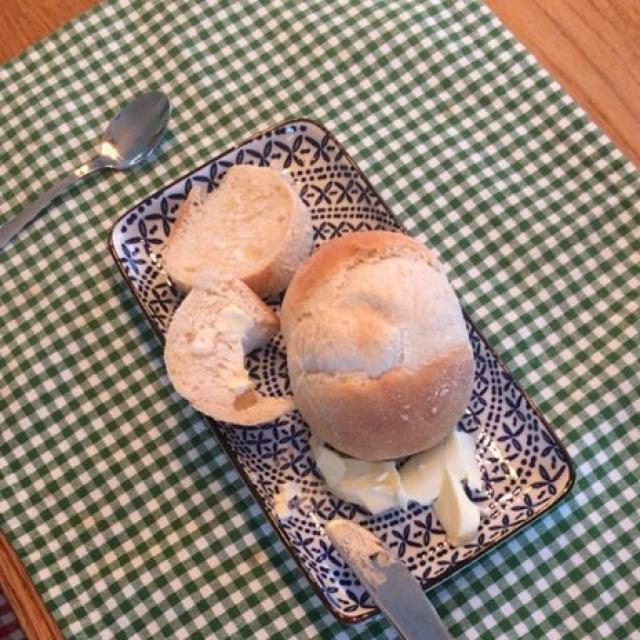bread: (156, 157, 470, 456)
butter: (311, 442, 490, 542)
